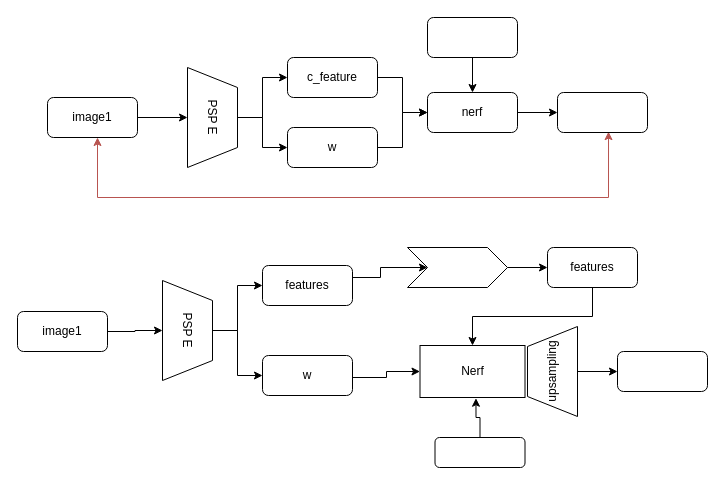
Some shapes in this 725 by 485 pixel diagram are drawn without their labels. The centre of each missing label's shape, as x and y in pixels:
"gan_image" goes at (x=662, y=371).
"gan_img" goes at (x=602, y=112).
"MVS components" goes at (x=457, y=267).
"pose" goes at (x=472, y=37).
"pose1" goes at (x=479, y=452).
